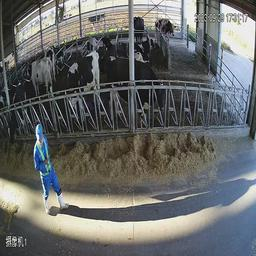cow: (108, 51, 165, 135), (63, 51, 105, 137), (23, 54, 57, 110), (8, 82, 33, 157), (161, 13, 182, 55), (133, 7, 148, 37), (85, 35, 101, 51)
